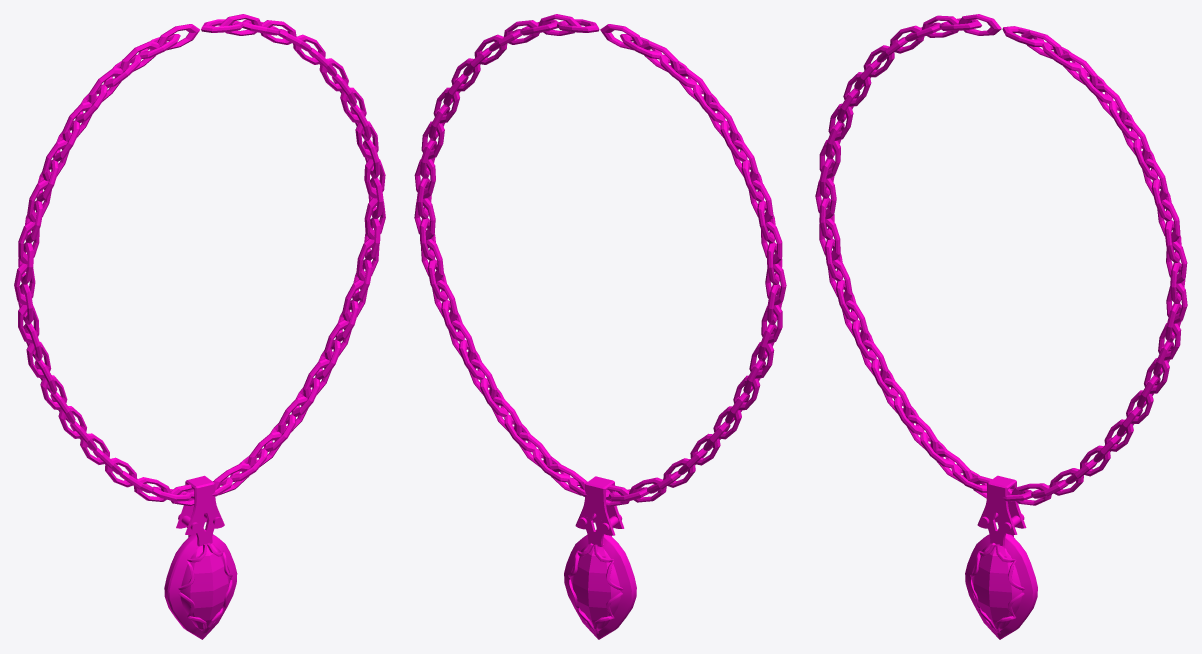
Rendered from Pendentif (artefact 2) (TEXTURED).fbx.
The picture shows the model from 3 angles, left to right: view 1: azimuth 30°, elevation 25°; view 2: azimuth 150°, elevation 25°; view 3: azimuth 330°, elevation 25°; orthographic projection.
Visible parts, largest first — view 1: chaine, pendentif_metal, pierre, attache; view 2: chaine, pendentif_metal, pierre, attache; view 3: chaine, pendentif_metal, pierre, attache.
Boxes of the visible parts, x1,y1,x2,y2 form: chaine: (14, 14, 385, 505); pendentif_metal: (164, 534, 237, 639); pierre: (180, 544, 230, 630); attache: (176, 475, 224, 546); chaine: (414, 14, 786, 506); pendentif_metal: (564, 534, 636, 639); pierre: (570, 544, 620, 630); attache: (575, 476, 624, 546); chaine: (815, 14, 1187, 505); pendentif_metal: (965, 533, 1037, 639); pierre: (971, 543, 1021, 630); attache: (977, 475, 1026, 546).
Size of the model in its own units: 7.38 by 11.75 by 0.8615.
